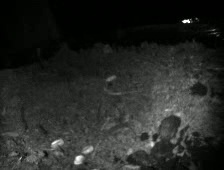corn: (48, 136, 65, 150), (81, 143, 95, 156), (72, 153, 86, 165), (104, 73, 119, 83)
